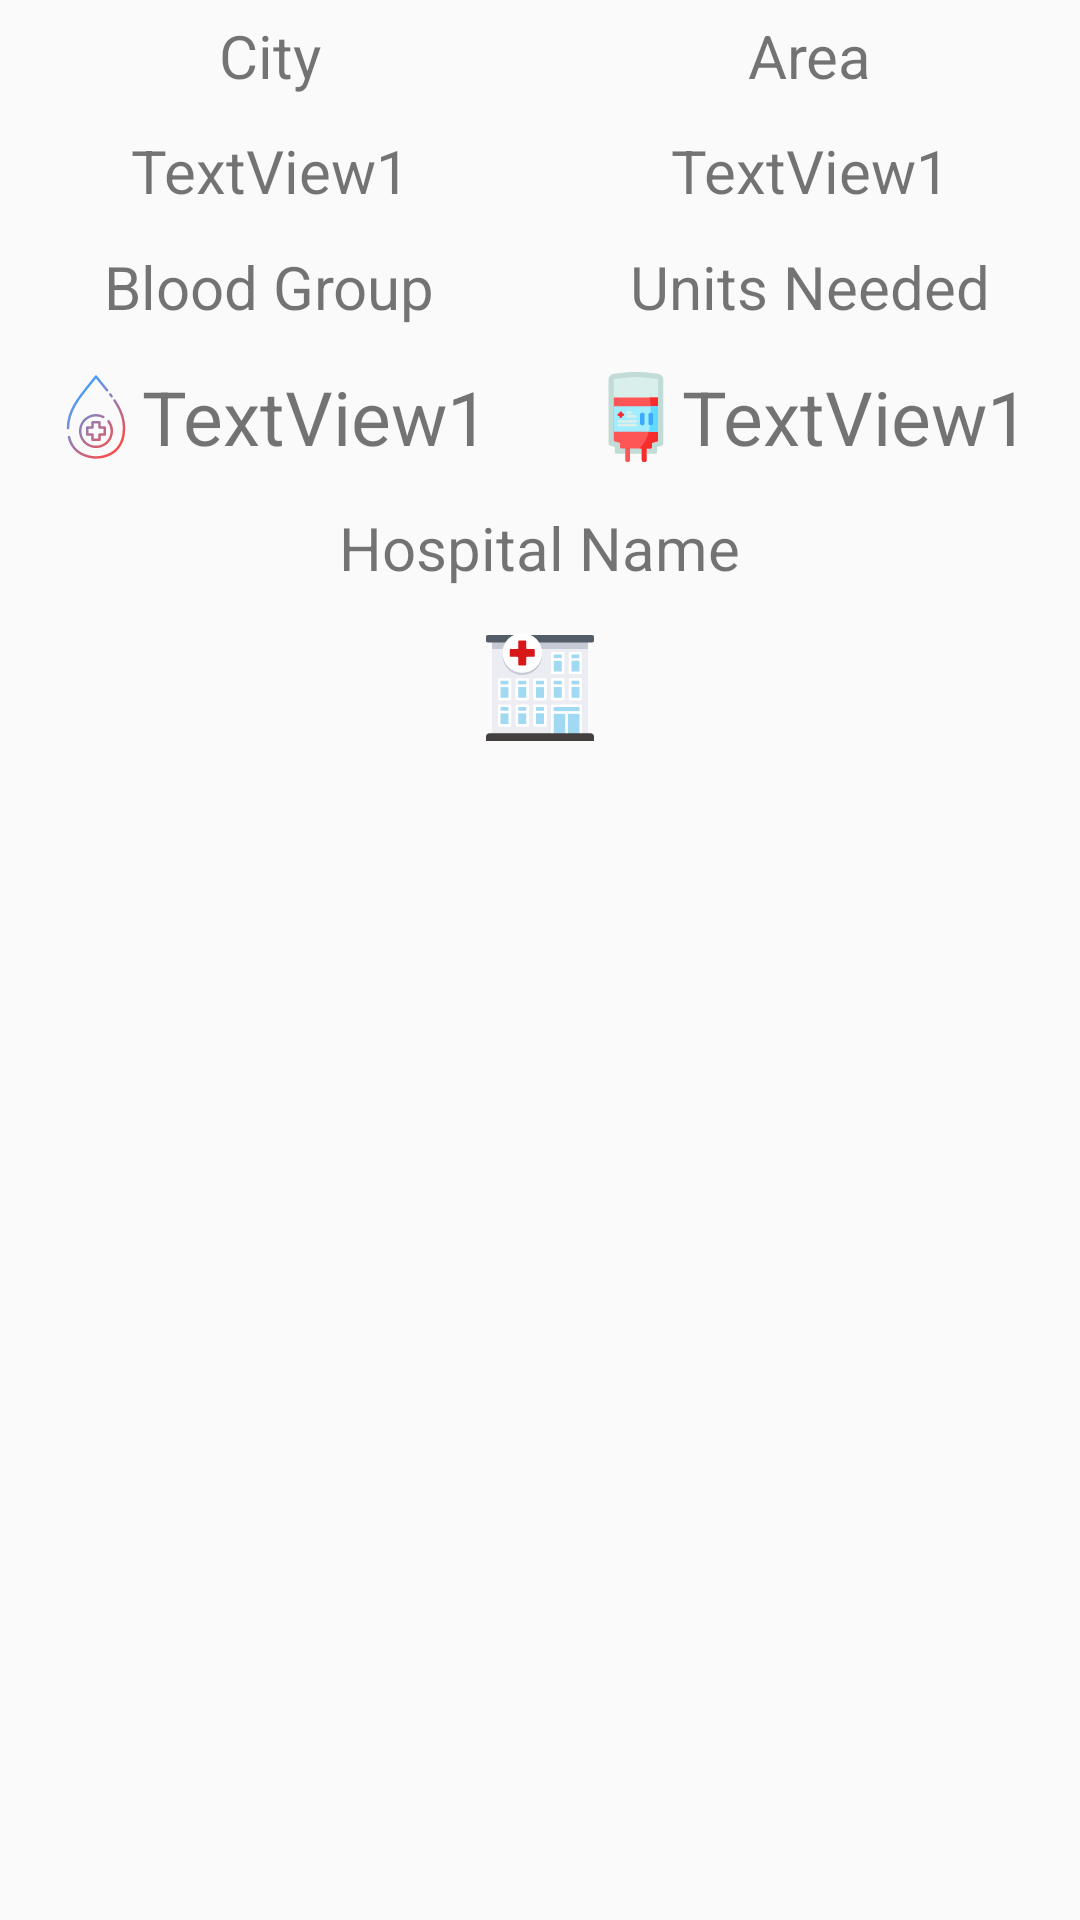

Icon click points for this 1080×1920 phone screenshot, format (x,y):
blood bag: (635,417)
blood drop: (96,417)
